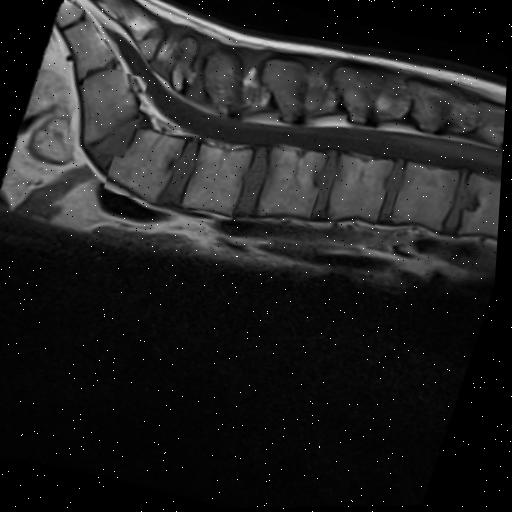L1: (392, 164, 459, 231)
L2: (332, 153, 394, 220)
L3: (259, 147, 325, 218)
L4: (183, 142, 252, 214)
L5: (108, 129, 185, 203)
S1: (80, 68, 138, 148)
